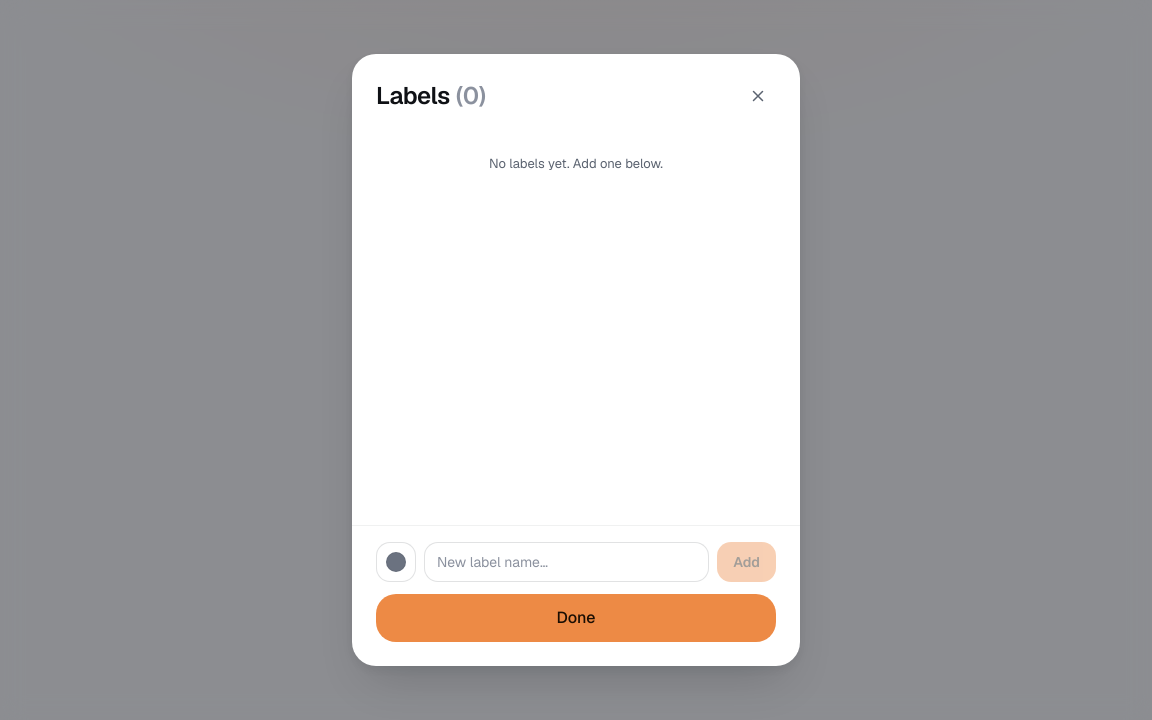
Test: <LabelsManager> › adds a new label via the footer form
The image size is (1152, 720).
Type "Errands" into the field with placeholder "New label name…" at (567, 562), box left=424, top=542, right=709, bottom=582
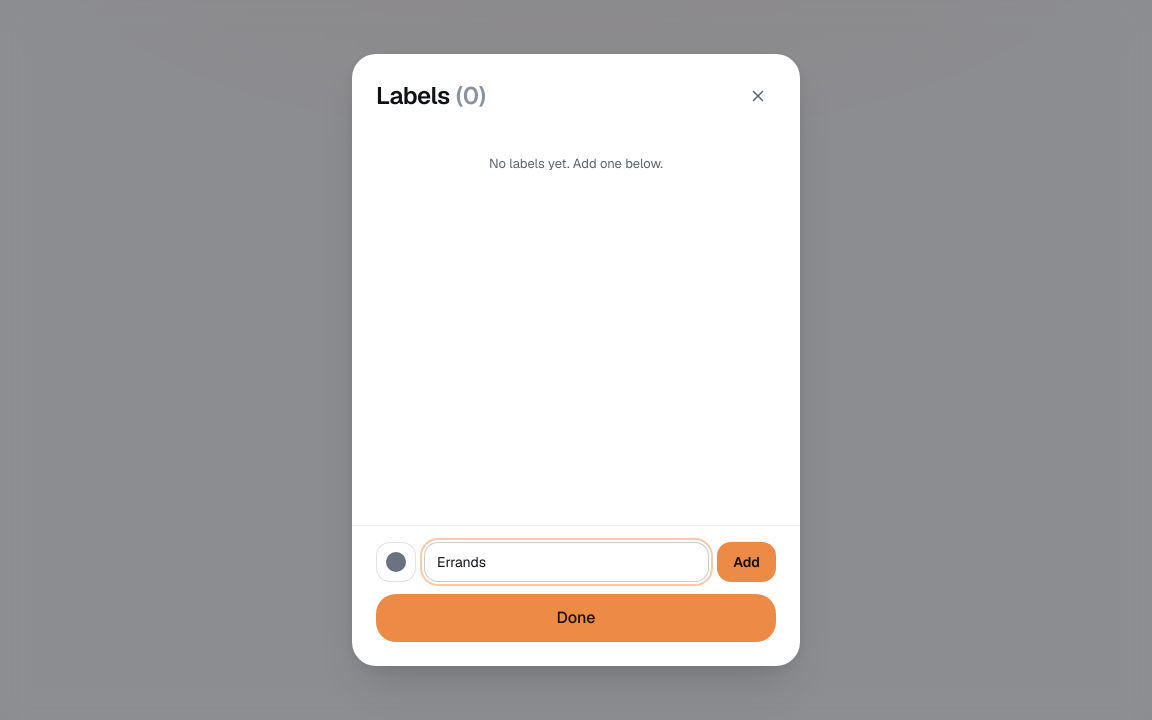
Click the button "Add" at (747, 562), box left=717, top=542, right=776, bottom=582
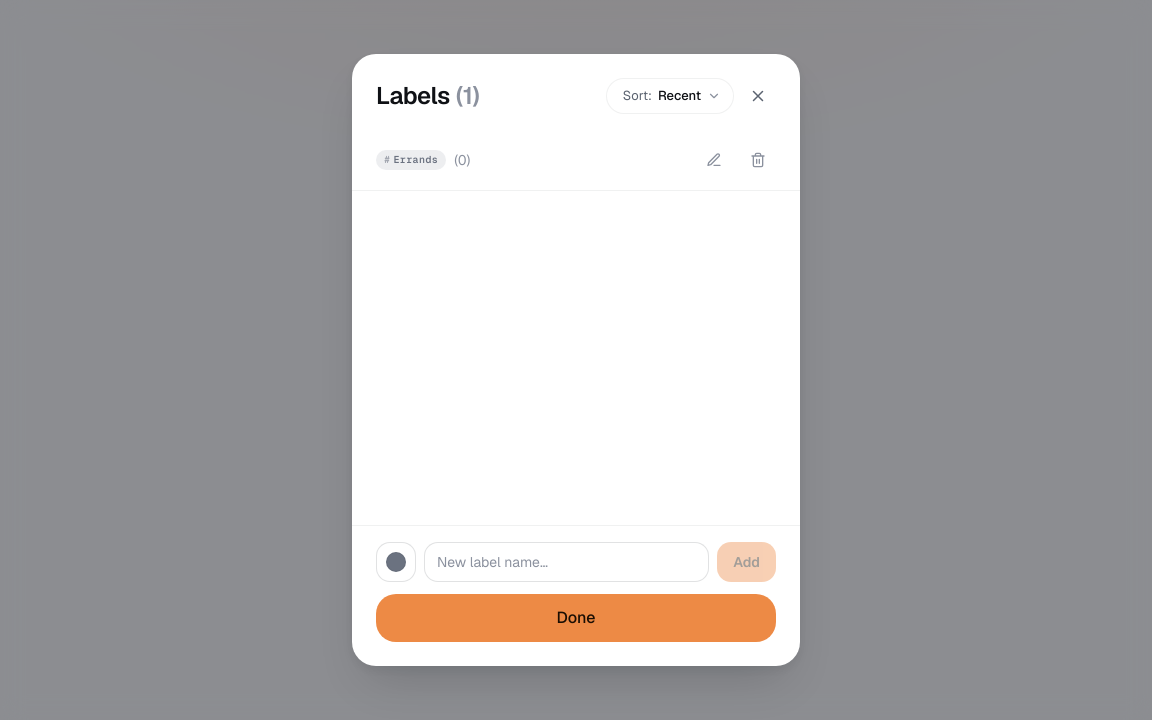
Result: the text "Errands" is shown at left=376, top=150, right=446, bottom=170
